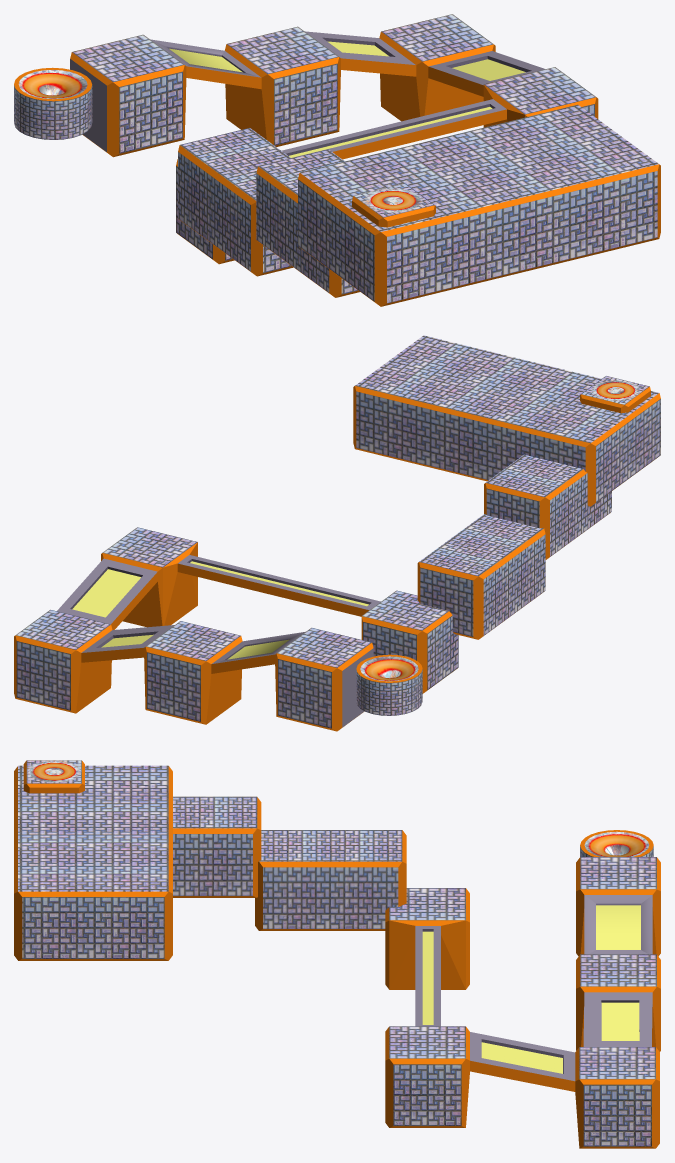
File: Level10.fbx
The picture shows the model from 3 angles, top to bottom: view 1: azimuth 30°, elevation 25°; view 2: azimuth 150°, elevation 25°; view 3: azimuth 270°, elevation 25°; orthographic projection. The views are drawn at different scales.
Parts seen in each view (by area): view 1: Level10; view 2: Level10; view 3: Level10.
Boxes of the visible parts, bbox=[...] form: Level10: bbox=[14, 14, 660, 306]; Level10: bbox=[14, 335, 660, 731]; Level10: bbox=[14, 760, 660, 1148].
Size of the model in its own units: 1919 by 880 by 2534.
Materials: 10 (5 with a texture image).
